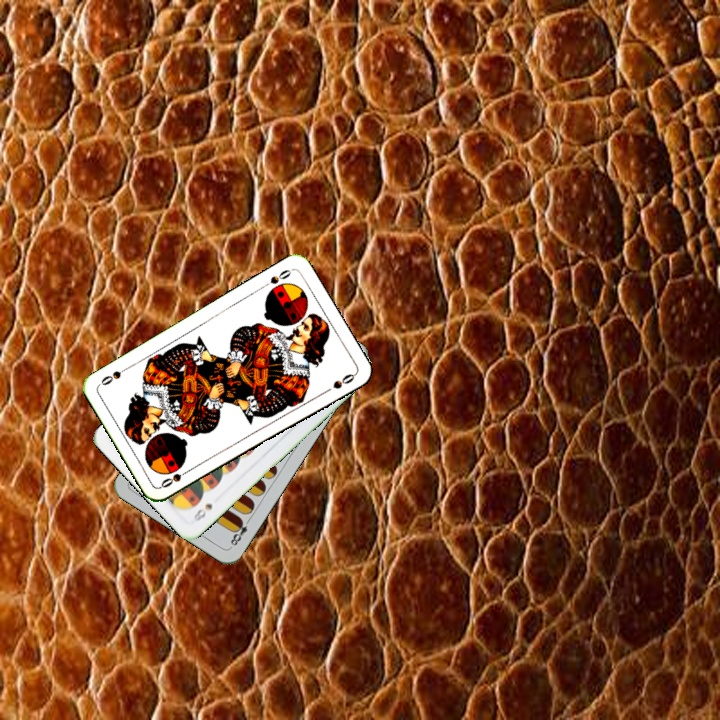E8: (226, 514, 254, 550)
S8: (190, 499, 215, 524)
SO: (157, 464, 194, 490), (258, 265, 295, 291)
